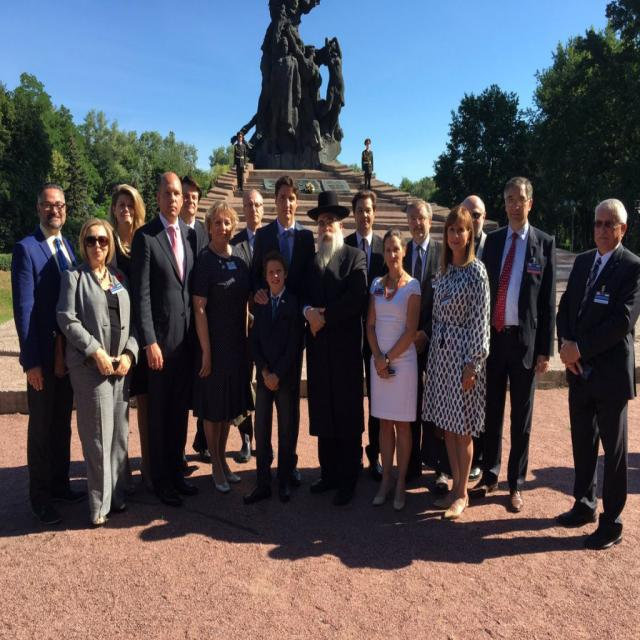body: (554, 193, 639, 554), (8, 178, 94, 529), (472, 172, 559, 512), (53, 214, 143, 530), (128, 168, 205, 509), (418, 202, 497, 526), (297, 189, 370, 508), (250, 171, 321, 489), (184, 196, 254, 497), (363, 223, 425, 515), (103, 182, 156, 499), (245, 248, 309, 509), (400, 196, 450, 492), (254, 0, 346, 155), (343, 187, 391, 483), (229, 187, 275, 463), (460, 194, 489, 484), (178, 172, 213, 258), (233, 129, 248, 191), (361, 138, 374, 192)
